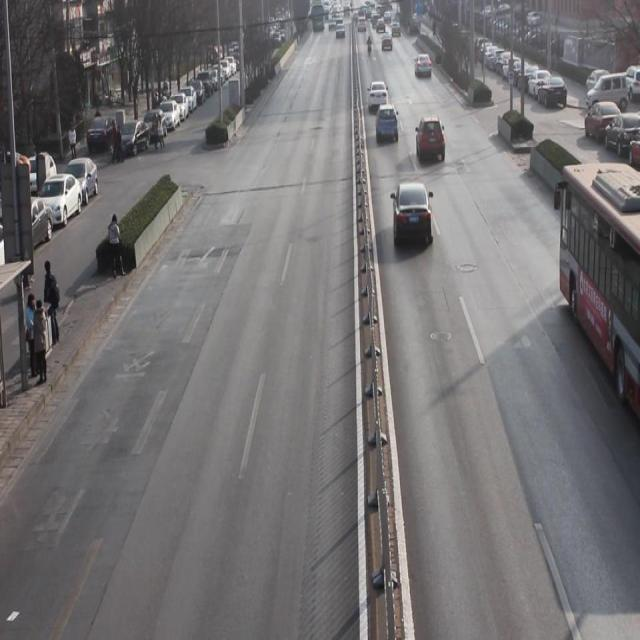car: (389, 184, 434, 252), (414, 121, 446, 168), (375, 107, 400, 149), (368, 84, 388, 114)
van: (558, 161, 640, 420)
